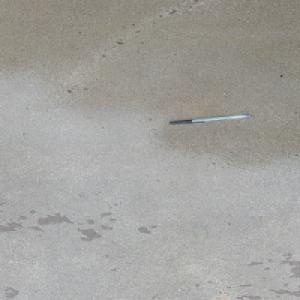Pen: (168, 113, 252, 125)
